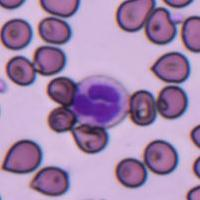N: (70, 75, 130, 127)
